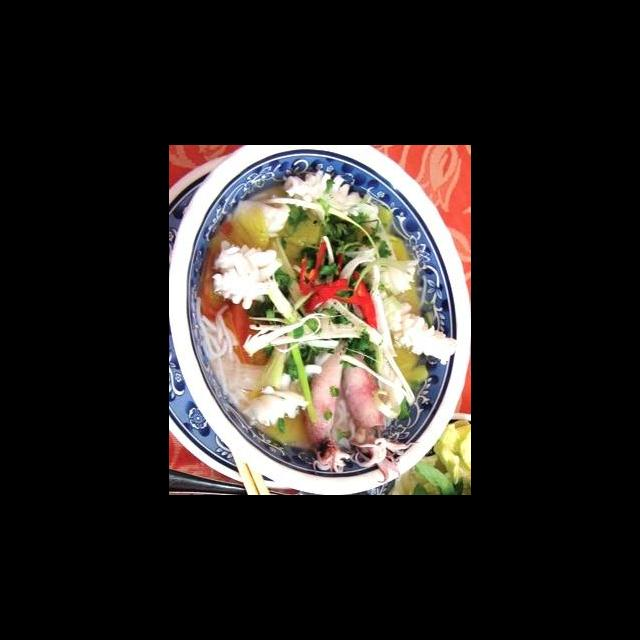bun: (189, 295, 254, 414)
muc: (337, 336, 423, 485), (301, 332, 355, 480), (368, 288, 461, 368), (280, 166, 384, 231), (208, 239, 286, 311), (238, 386, 312, 430), (228, 195, 293, 240)
